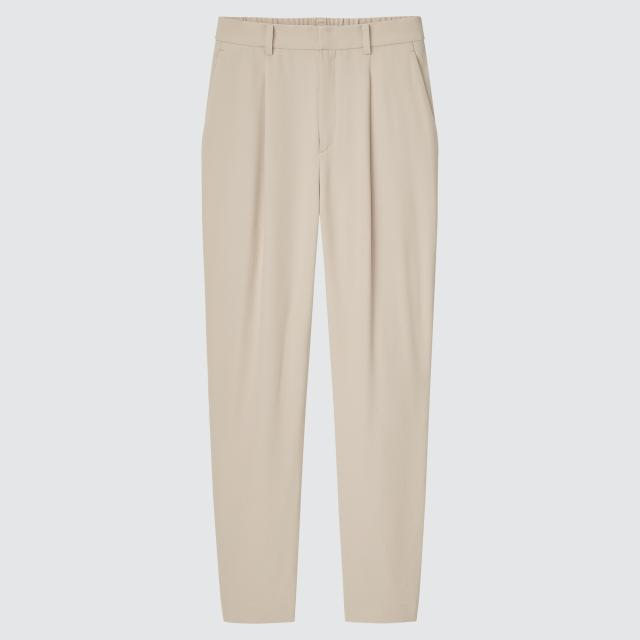long-pants: (200, 15, 439, 627)
